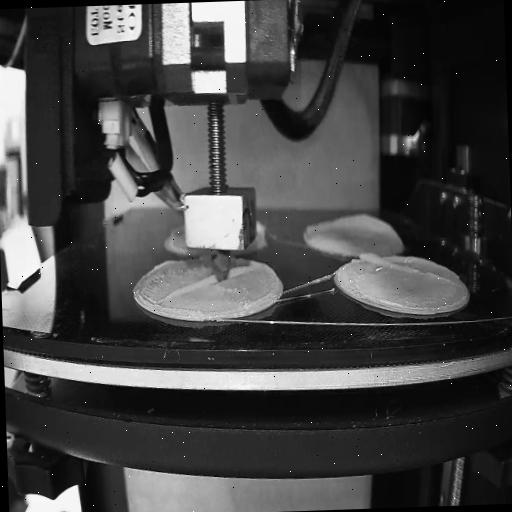over_extrusion: (359, 248, 452, 286), (302, 210, 400, 244), (161, 271, 216, 301), (228, 262, 254, 276)
